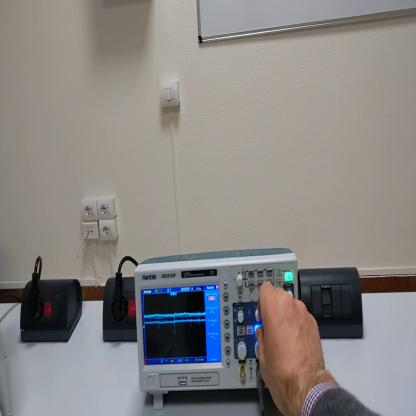hand: (255, 283, 327, 405)
oscilloscope: (135, 249, 298, 412)
socket: (21, 273, 84, 343), (102, 274, 139, 344)
